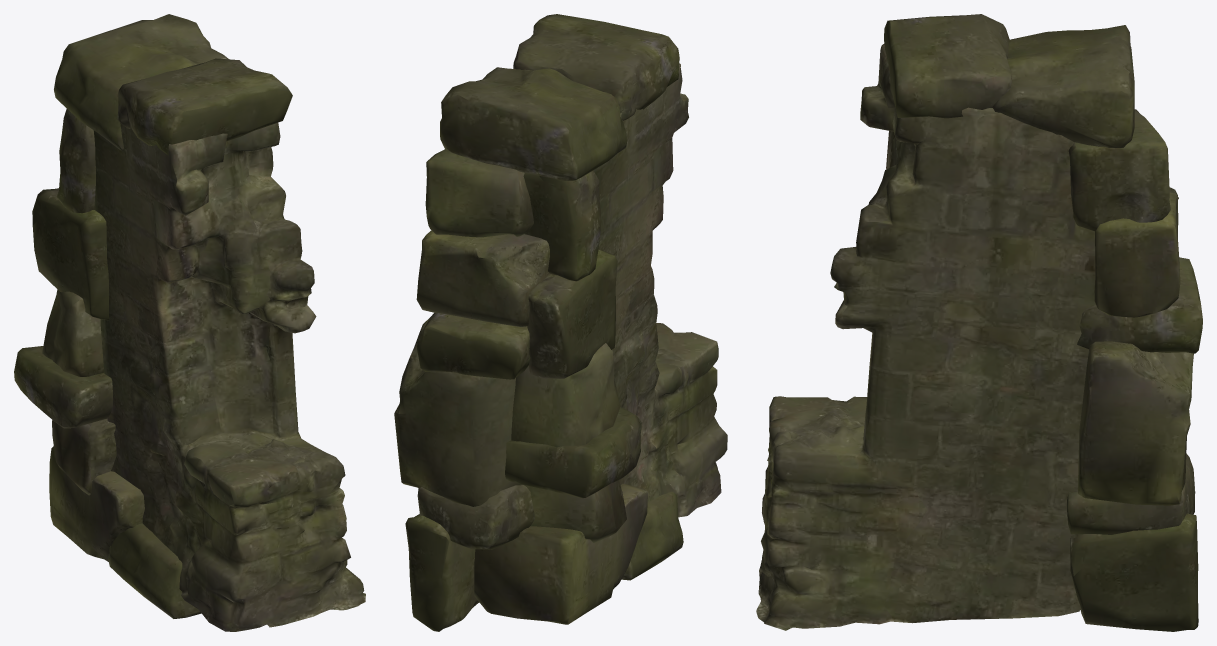
Rendered from Ruins_BrokenWindow-transformed.glb.
The picture shows the model from 3 angles, left to right: view 1: azimuth 30°, elevation 25°; view 2: azimuth 150°, elevation 25°; view 3: azimuth 270°, elevation 25°; orthographic projection. The views are drawn at different scales.
Visible parts, largest first — view 1: Ruins_BrokenWindow; view 2: Ruins_BrokenWindow; view 3: Ruins_BrokenWindow.
Boxes of the visible parts, x1,y1,x2,y2 form: Ruins_BrokenWindow: (14,14,365,631); Ruins_BrokenWindow: (394,14,727,631); Ruins_BrokenWindow: (756,14,1202,631).
Bounding box in the file's own units: 1.72 × 4.35 × 3.13.
Materials: 2 (2 with a texture image).
